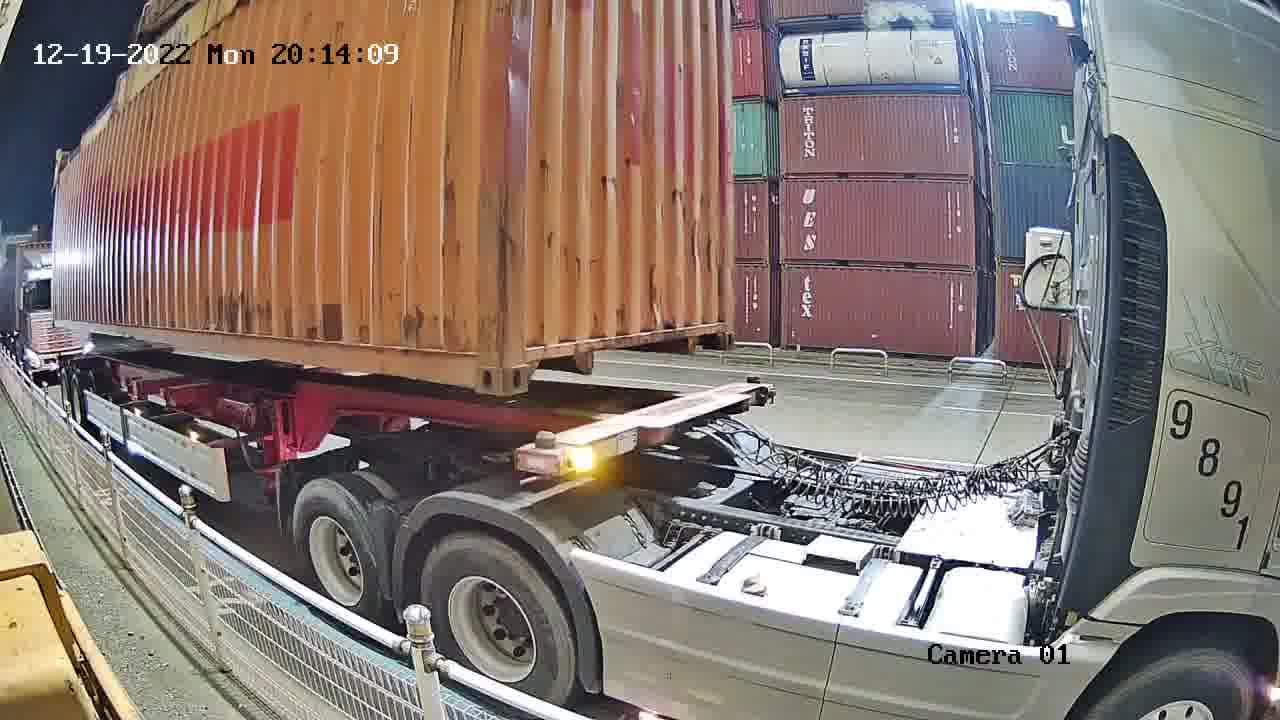Chassis: (514, 381, 775, 476)
Cone: (525, 428, 560, 484), (738, 370, 765, 391)
Hole_L: (502, 313, 559, 397)
Hole_R: (445, 318, 502, 399), (696, 298, 736, 353)
Tire: (420, 536, 575, 703), (294, 480, 377, 612)
